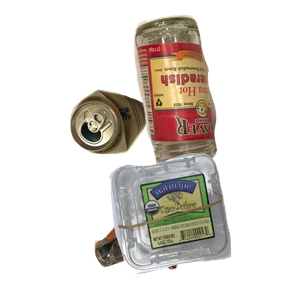glass: (131, 12, 300, 170)
metal: (67, 87, 206, 234)
plastic: (106, 151, 300, 300)
trash: (92, 174, 272, 300)
